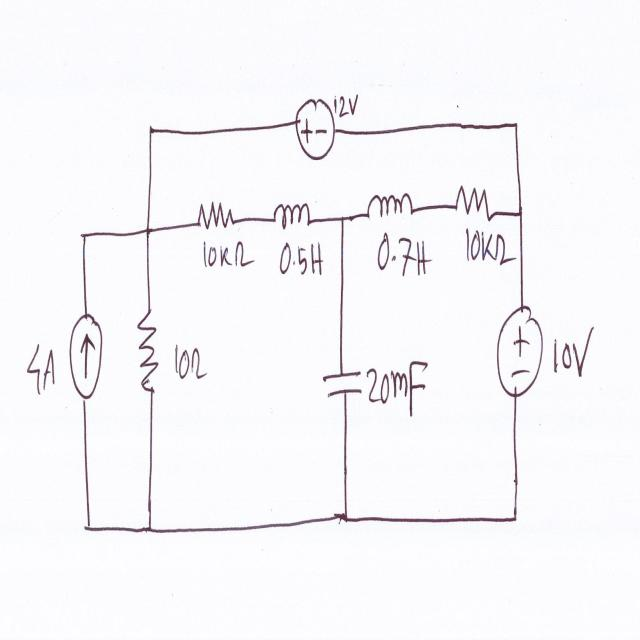capacitor: (320, 363, 366, 405)
current_source: (67, 304, 104, 402)
inductor: (362, 179, 417, 231), (268, 194, 316, 235)
resistor: (134, 301, 166, 405), (194, 191, 239, 237), (451, 177, 492, 223)
voltage_source: (493, 296, 546, 403), (292, 90, 338, 167)
